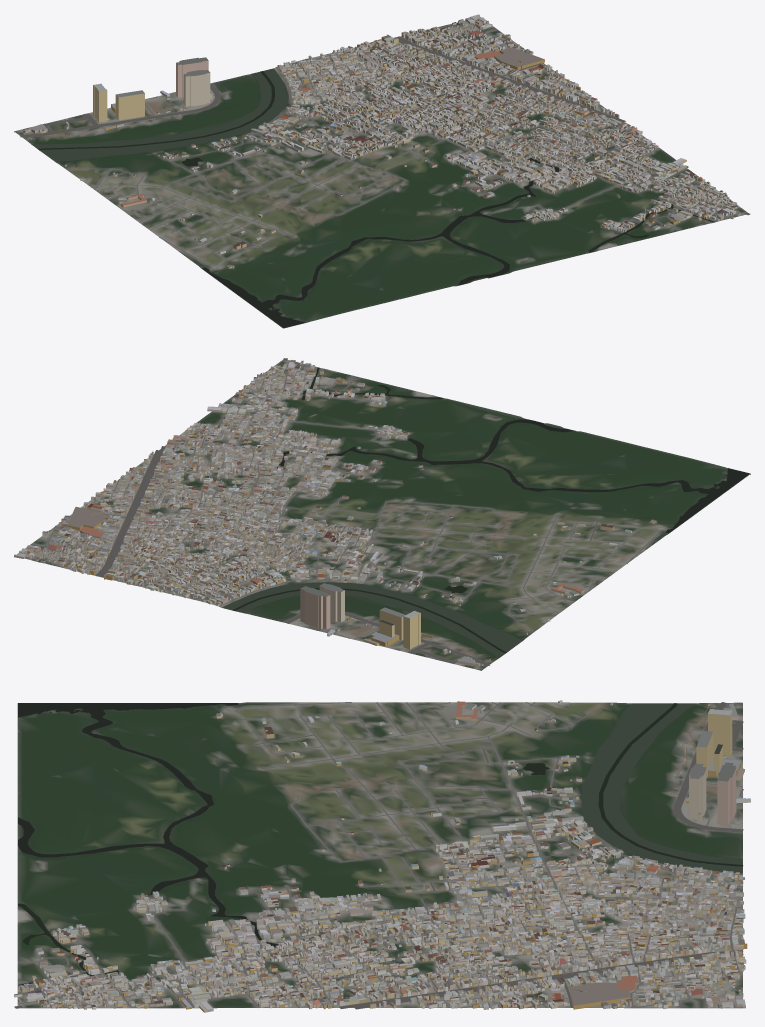
The picture shows the model from 3 angles, top to bottom: view 1: azimuth 30°, elevation 25°; view 2: azimuth 150°, elevation 25°; view 3: azimuth 270°, elevation 25°; orthographic projection. The views are drawn at different scales.
Visible parts, largest first — view 1: ground, buildings, water, roads; view 2: ground, buildings, roads, water; view 3: ground, buildings, water, roads.
Boxes of the visible parts, x1=… form: ground: x1=14, y1=17, x2=747, y2=328; buildings: x1=23, y1=14, x2=740, y2=268; water: x1=32, y1=22, x2=714, y2=327; roads: x1=20, y1=21, x2=750, y2=265; ground: x1=17, y1=359, x2=750, y2=670; buildings: x1=14, y1=360, x2=656, y2=666; roads: x1=18, y1=358, x2=660, y2=666; water: x1=38, y1=367, x2=749, y2=658; ground: x1=17, y1=702, x2=742, y2=1008; buildings: x1=14, y1=700, x2=750, y2=1012; water: x1=18, y1=703, x2=743, y2=992; roads: x1=14, y1=702, x2=743, y2=1009.
Size of the model in its own units: 1425 by 98.03 by 1423.
